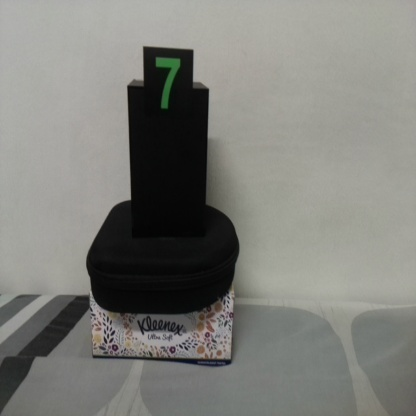id_7: (143, 47, 194, 128)
